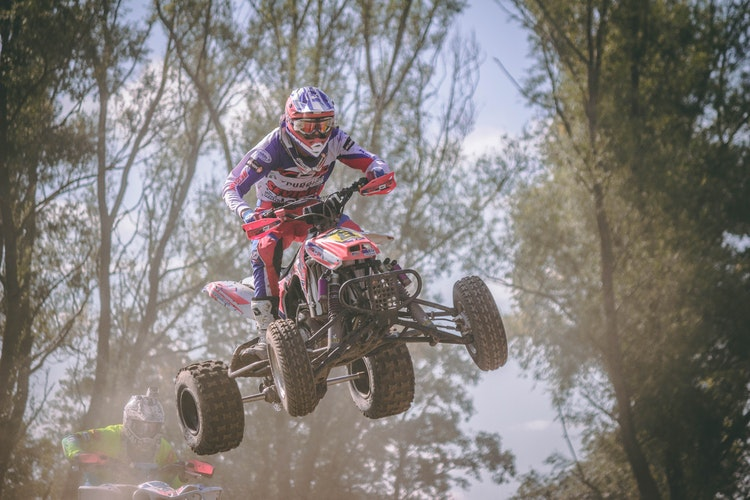helmet: (280, 79, 351, 157)
